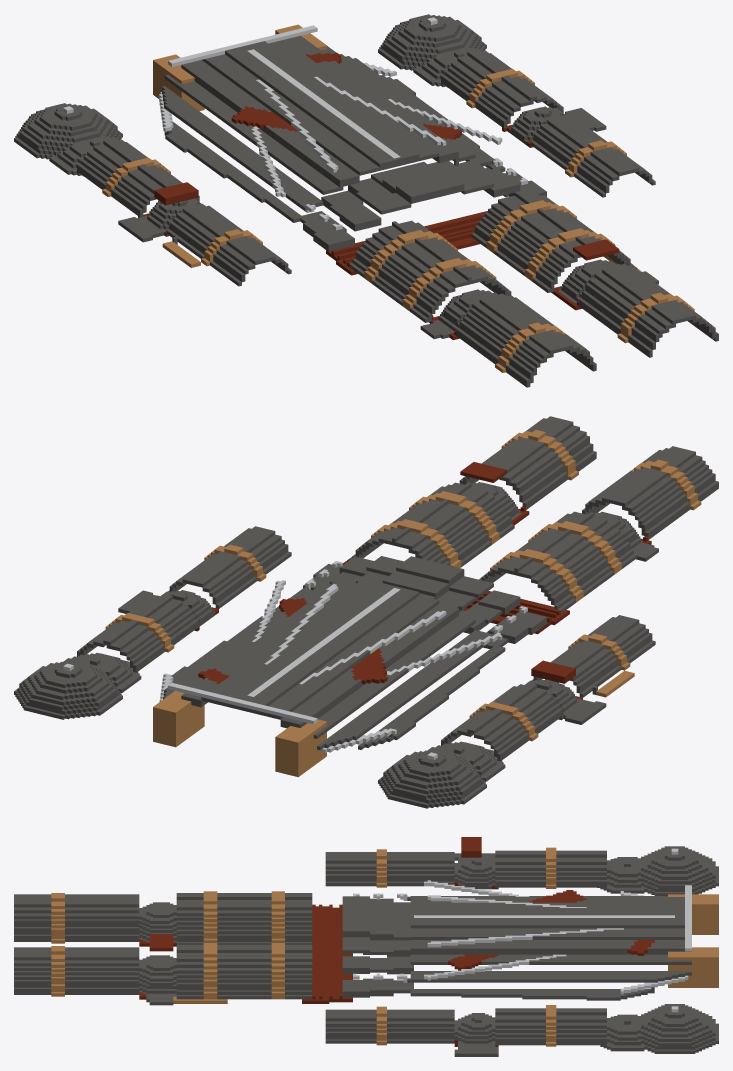
Rendered from armor_junk_lightplate.glb.
The picture shows the model from 3 angles, top to bottom: view 1: azimuth 30°, elevation 25°; view 2: azimuth 150°, elevation 25°; view 3: azimuth 270°, elevation 25°; orthographic projection. The views are drawn at different scales.
Visible parts, largest first — view 1: armor_junk_lightplate:compound; view 2: armor_junk_lightplate:compound; view 3: armor_junk_lightplate:compound.
Part boxes in pixels (bbox=[...]): armor_junk_lightplate:compound: bbox=[14, 14, 718, 387]; armor_junk_lightplate:compound: bbox=[14, 416, 718, 808]; armor_junk_lightplate:compound: bbox=[14, 837, 718, 1056].
Size of the model in its own units: 0.84 by 0.078 by 1.25.
